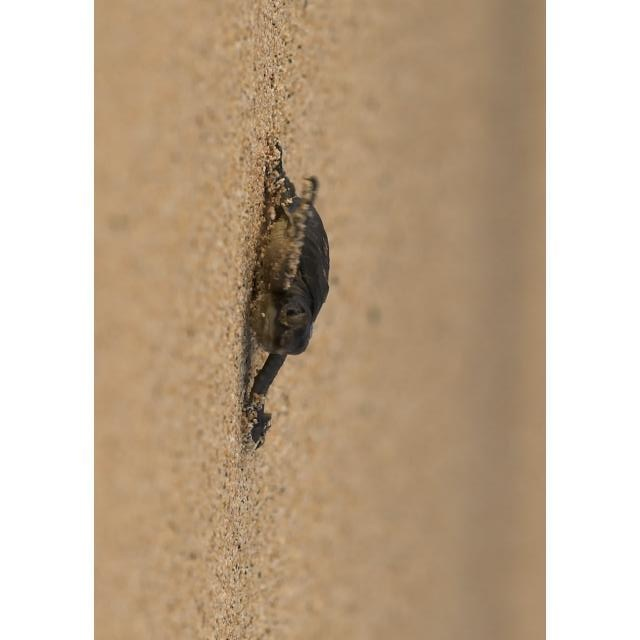turtle: (246, 148, 333, 446)
